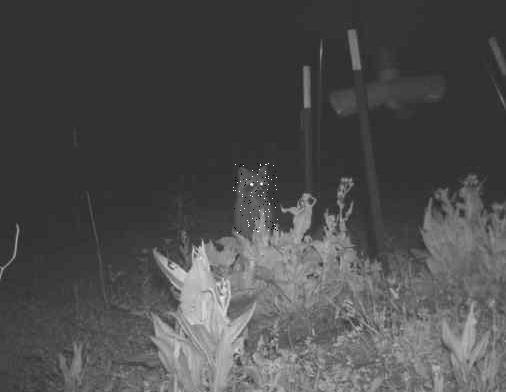Raccoon: (233, 164, 278, 234)
